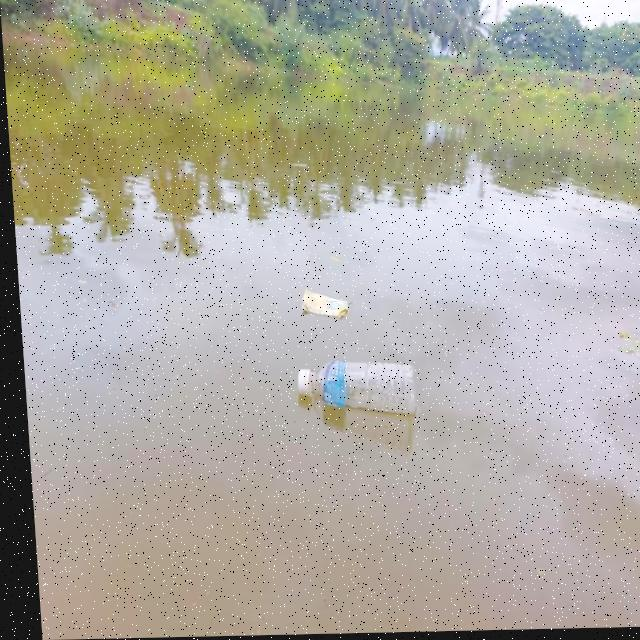paper: (276, 285, 351, 324)
waterbottle: (280, 359, 425, 425)
